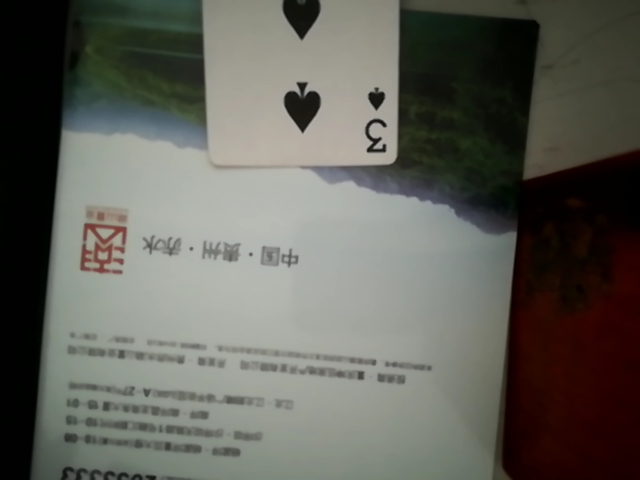ht 3: (196, 0, 408, 175)
